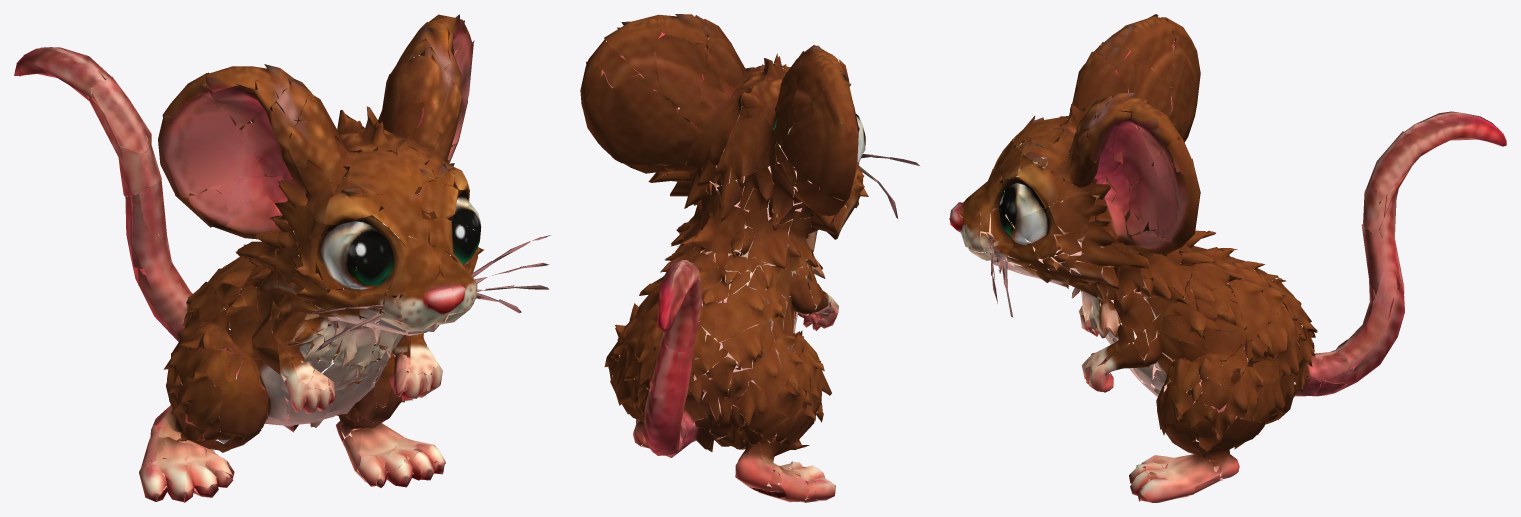
The model's file is raton_cafe.glb.
3 renders of one model, left to right at view 1: azimuth 30°, elevation 25°; view 2: azimuth 150°, elevation 25°; view 3: azimuth 270°, elevation 25°, orthographic. The views are drawn at different scales.
Visible parts, largest first — view 1: Mesh_0; view 2: Mesh_0; view 3: Mesh_0.
Boxes of the visible parts, x1,y1,x2,y2 form: Mesh_0: (14,14,550,502); Mesh_0: (580,14,919,502); Mesh_0: (949,14,1506,502).
Size of the model in its own units: 1.08 by 1.51 by 1.9.
Materials: 1 (1 with a texture image).
